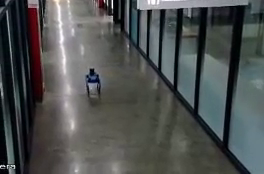robot dog: (84, 67, 102, 96)
